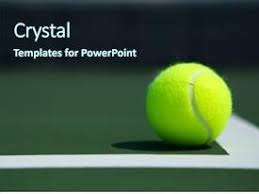tennis_ball: (144, 60, 233, 147)
